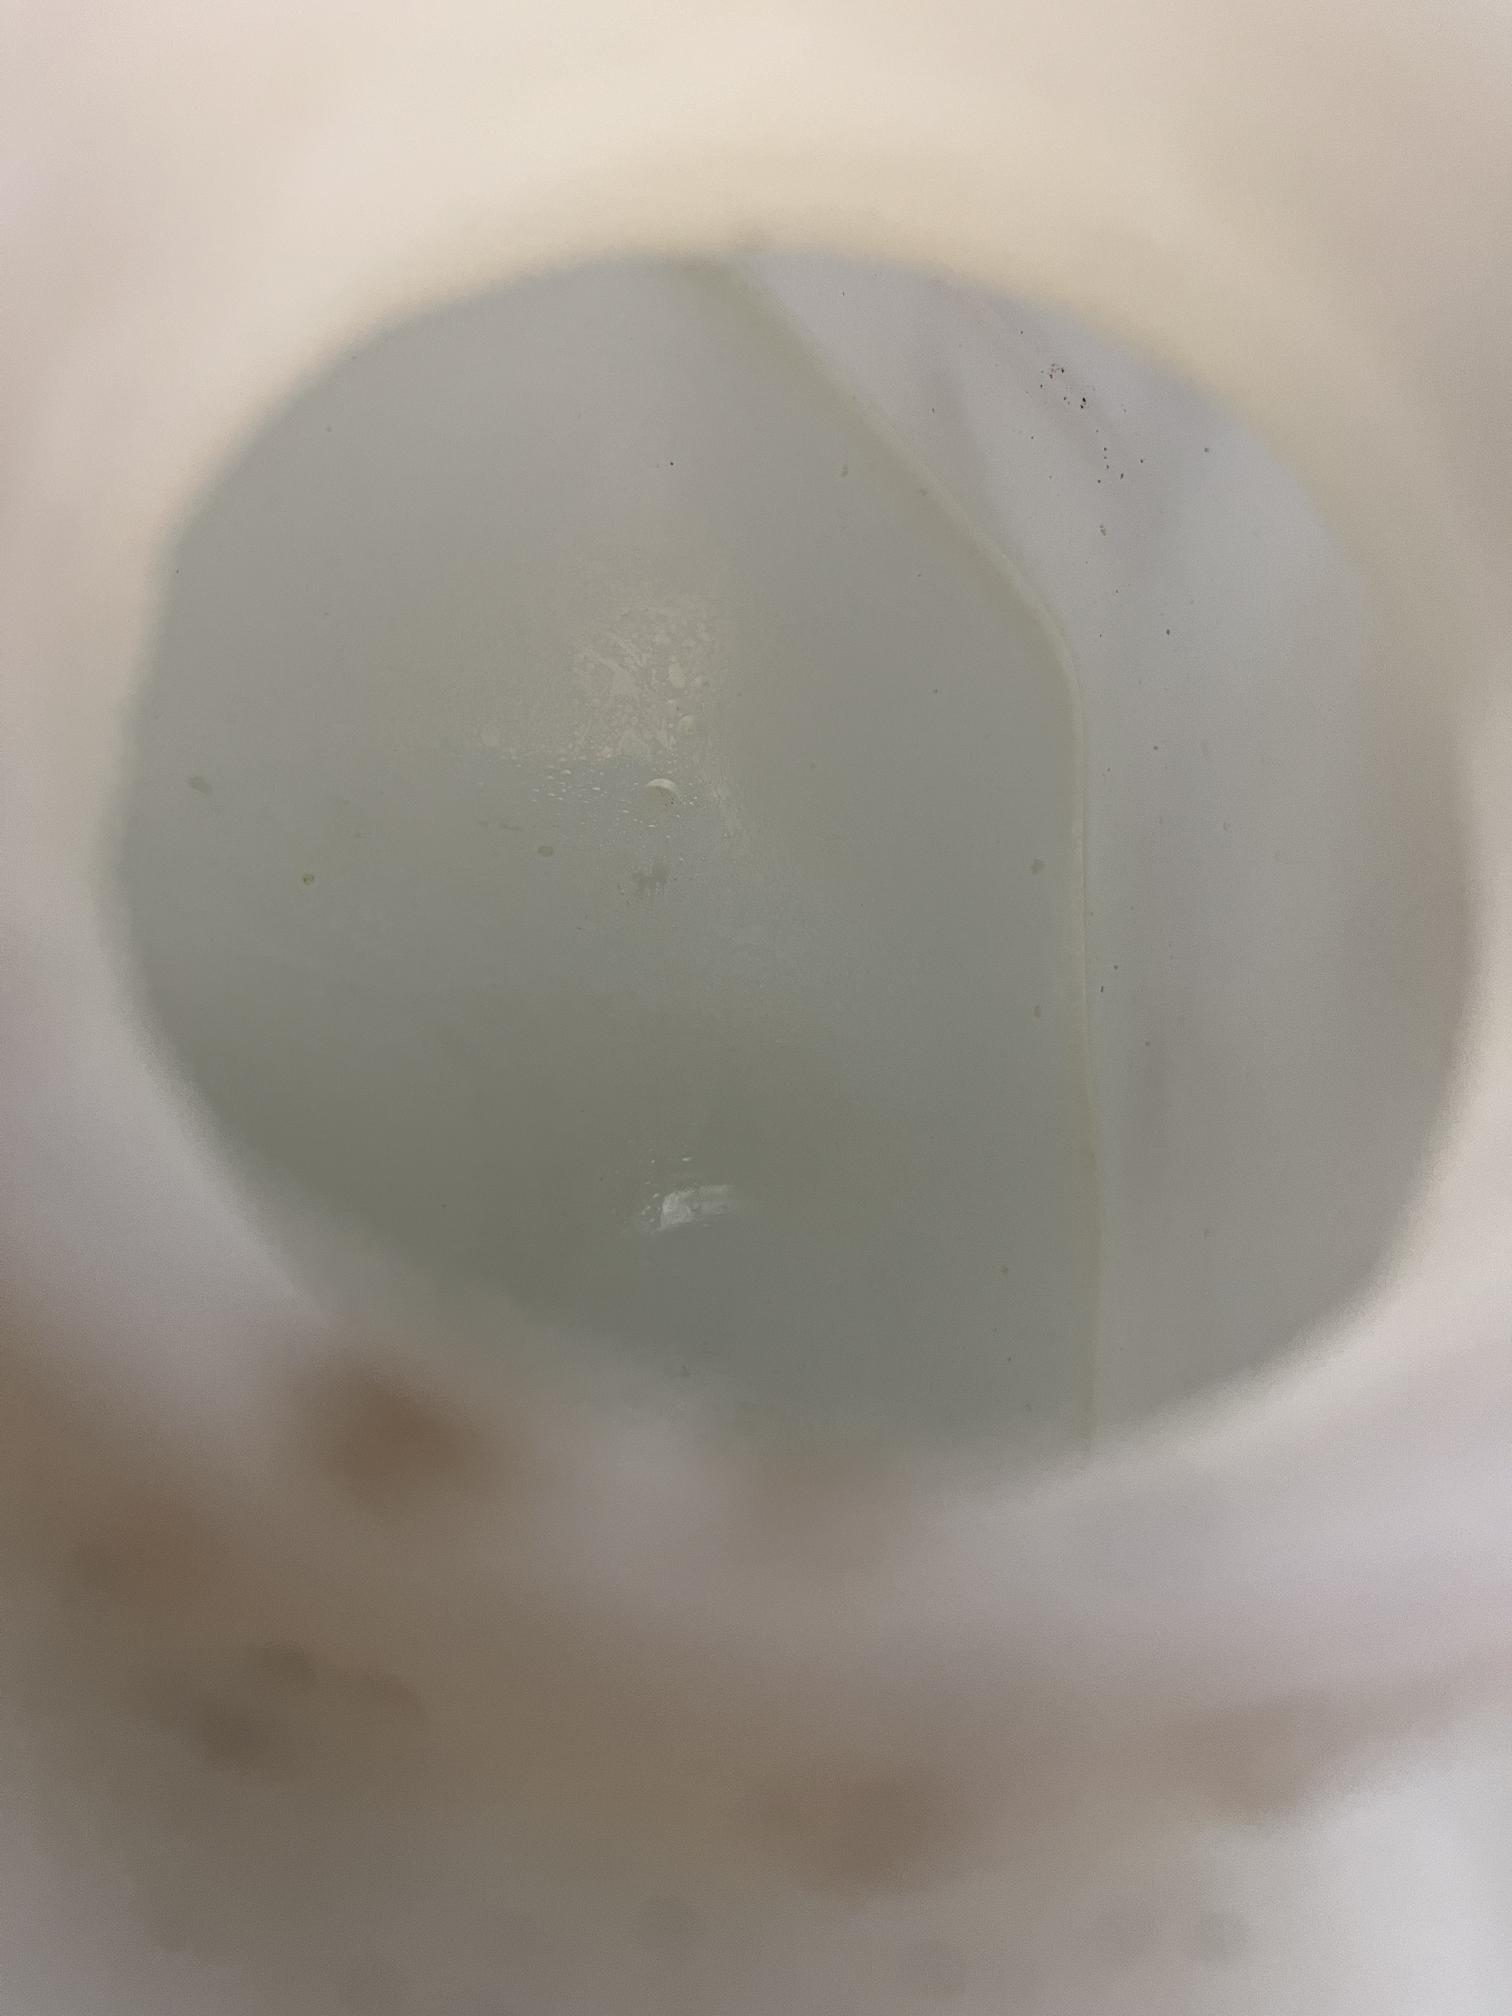Presenca de Oleo - - 10ml: (94, 230, 1310, 1545)
